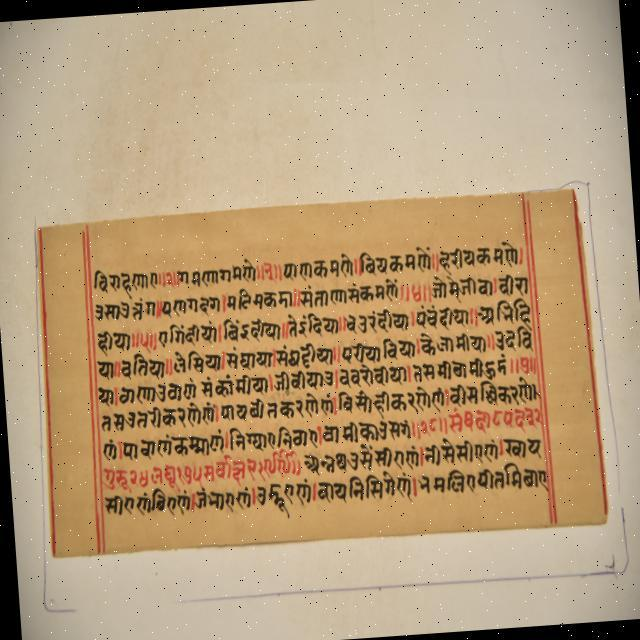text_paragraph: (35, 189, 607, 553)
